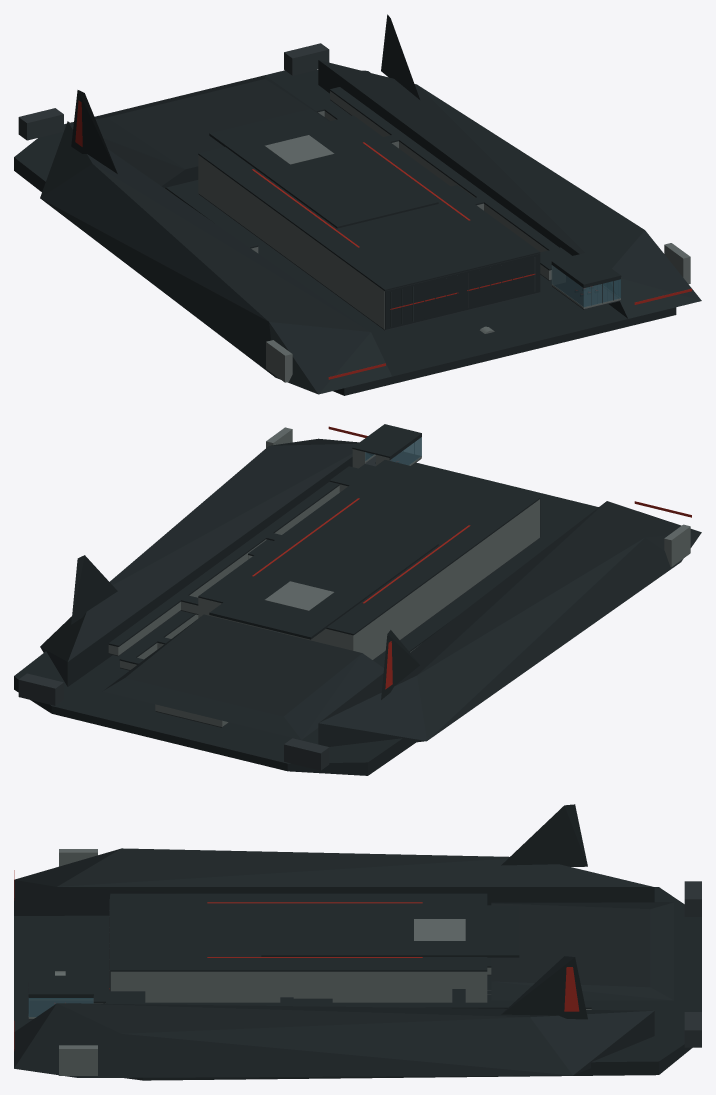
The picture shows the model from 3 angles, top to bottom: view 1: azimuth 30°, elevation 25°; view 2: azimuth 150°, elevation 25°; view 3: azimuth 270°, elevation 25°; orthographic projection.
Visible parts, largest first — view 1: mothership-roof-painted, mothership-side-hull--1-painted, mothership-side-hull-1-painted, mothership-painted, mothership-interior-walls-painted, mothership-door-1-painted, mothership-door--1-painted, breakaway-mothership-fin--1-painted, mothership-interior-walls-glazing, breakaway-mothership-fin-1-painted; view 2: mothership-roof-painted, mothership-side-hull--1-painted, mothership-side-hull-1-painted, mothership-painted, mothership-interior-walls-painted, breakaway-mothership-fin-1-painted, breakaway-mothership-fin--1-painted; view 3: mothership-roof-painted, mothership-side-hull-1-painted, mothership-side-hull--1-painted, mothership-painted, mothership-interior-walls-painted, breakaway-mothership-fin-1-painted, breakaway-mothership-fin--1-painted, mothership-interior-walls-glazing.
Boxes of the visible parts, x1,y1,x2,y2 form: mothership-roof-painted: [66, 75, 621, 290]; mothership-side-hull--1-painted: [40, 121, 391, 394]; mothership-side-hull-1-painted: [318, 60, 701, 318]; mothership-painted: [14, 43, 676, 395]; mothership-interior-walls-painted: [164, 91, 620, 329]; mothership-door-1-painted: [462, 253, 540, 310]; mothership-door--1-painted: [385, 272, 462, 329]; breakaway-mothership-fin--1-painted: [71, 90, 117, 173]; mothership-interior-walls-glazing: [551, 265, 620, 307]; breakaway-mothership-fin-1-painted: [381, 14, 419, 99]; mothership-roof-painted: [102, 424, 540, 739]; mothership-side-hull--1-painted: [318, 501, 701, 746]; mothership-side-hull-1-painted: [40, 426, 373, 686]; mothership-painted: [14, 453, 598, 775]; mothership-interior-walls-painted: [108, 435, 539, 726]; breakaway-mothership-fin-1-painted: [71, 555, 117, 624]; breakaway-mothership-fin--1-painted: [381, 630, 419, 699]; mothership-roof-painted: [28, 893, 673, 1008]; mothership-side-hull-1-painted: [14, 1003, 654, 1077]; mothership-side-hull--1-painted: [14, 848, 654, 915]; mothership-painted: [14, 881, 701, 1080]; mothership-interior-walls-painted: [28, 967, 591, 1018]; breakaway-mothership-fin-1-painted: [501, 956, 587, 1019]; breakaway-mothership-fin--1-painted: [501, 804, 587, 866]; mothership-interior-walls-glazing: [28, 998, 93, 1017].
Size of the model in its own units: 1158 by 291 by 1684.
